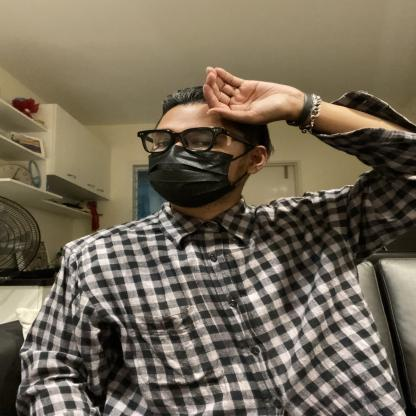Sick: (75, 59, 350, 193)
